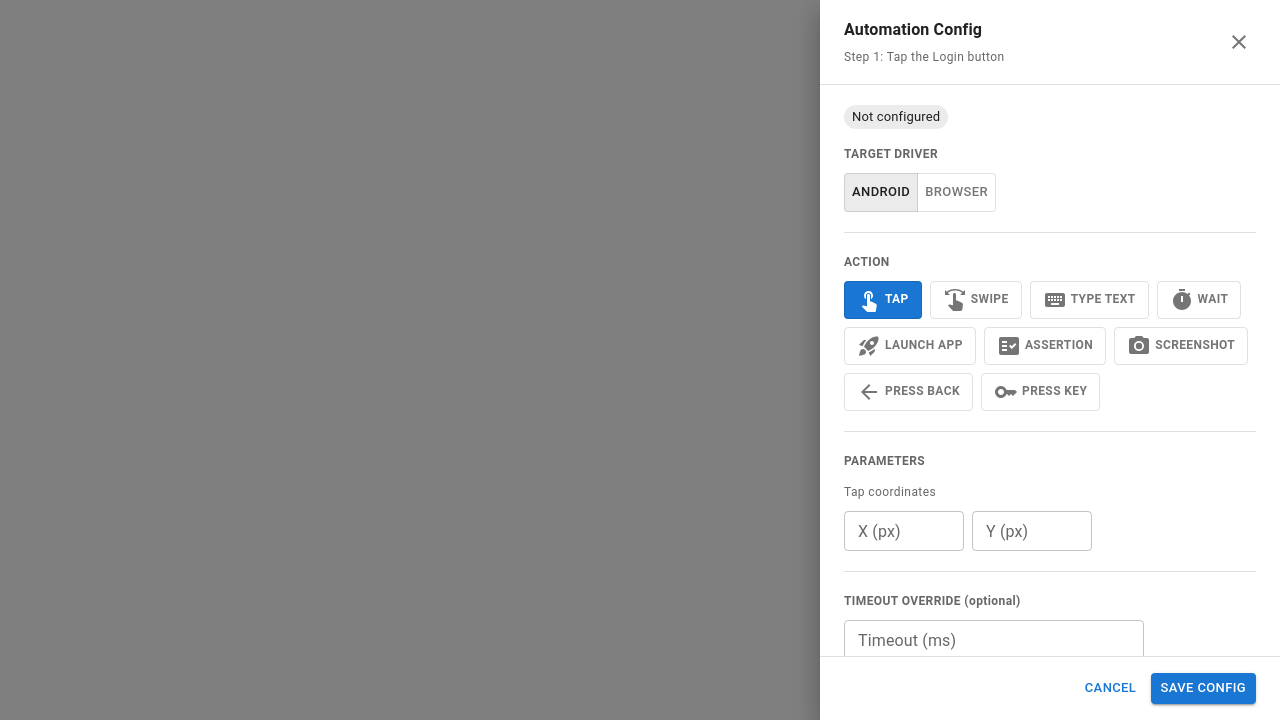
Scenario: AutomationConfigEditor — action-specific param fields › shows text field for type_text action
Click the button "Type Text" at (1089, 300), box [1030,281,1148,319]
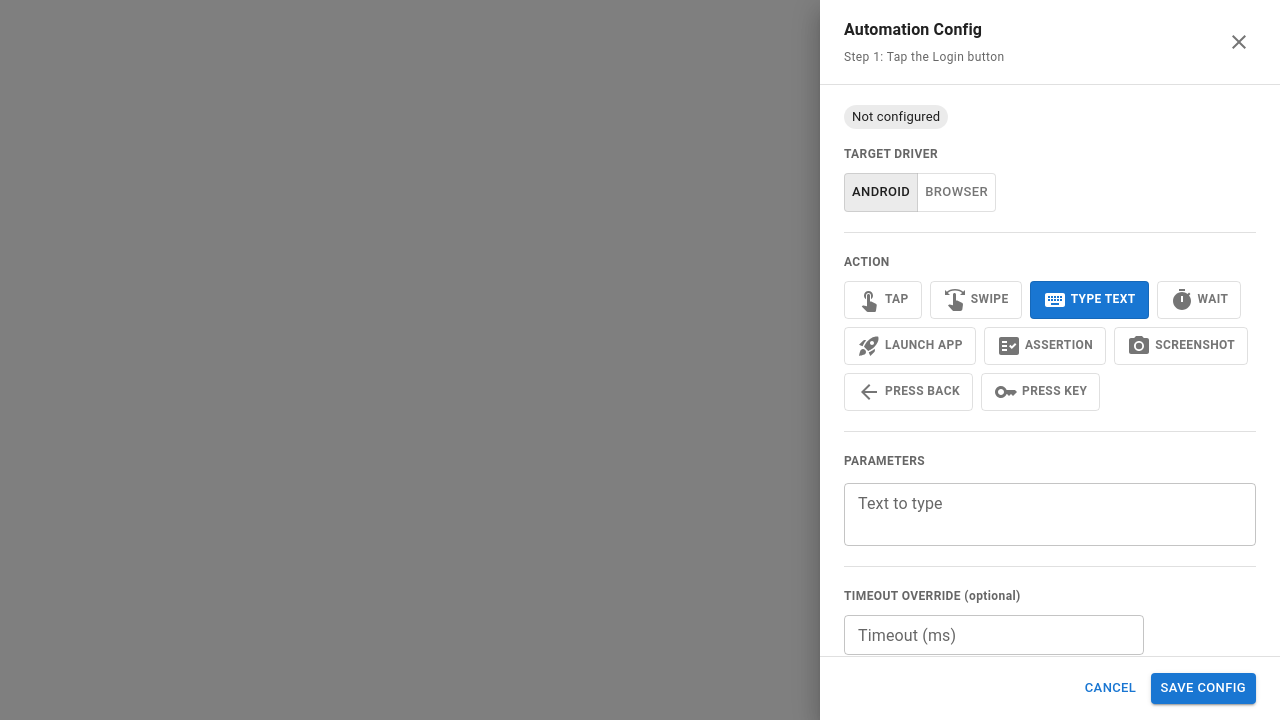
Check: the text box labelled "Text to type" is shown, box [858,492,1242,538]
